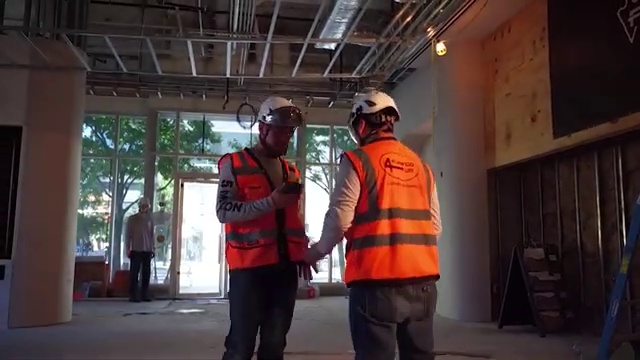helmet: (259, 93, 304, 136), (349, 86, 400, 121)
jacket: (352, 134, 438, 289), (212, 143, 312, 268)
